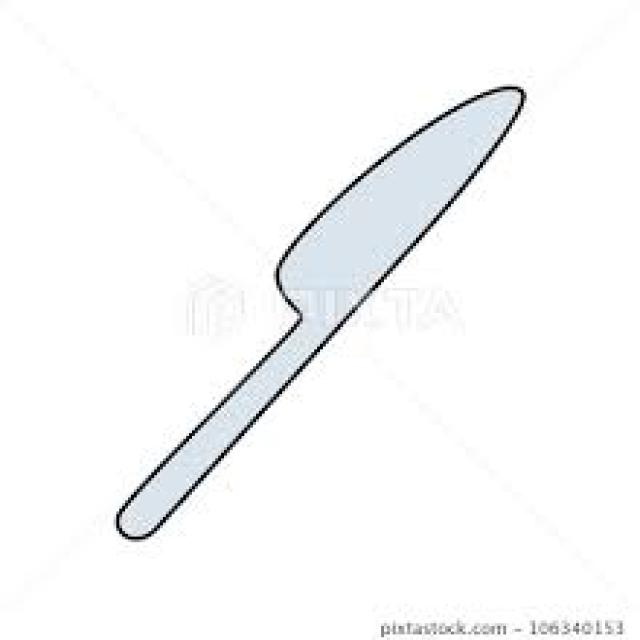Knife: (114, 81, 526, 539)
